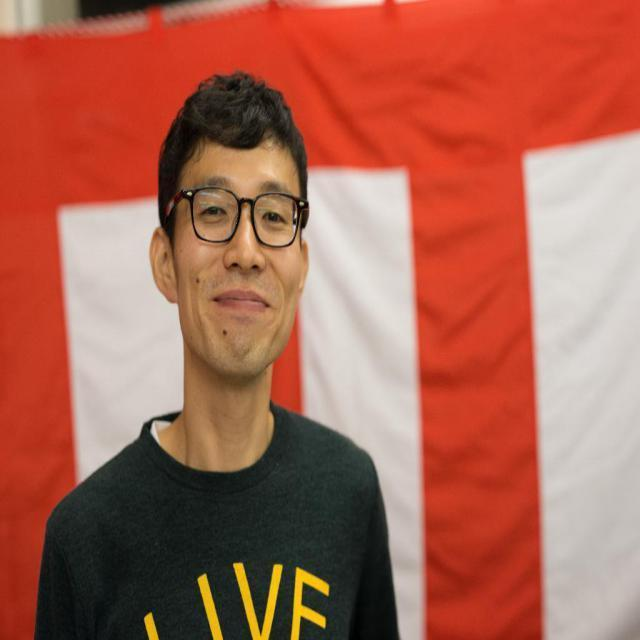closed-mouth: (213, 288, 270, 310)
